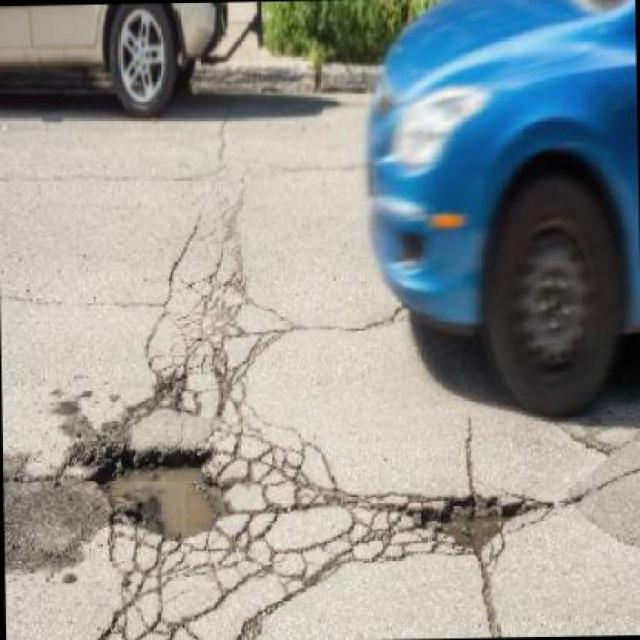pothole1: (91, 422, 232, 540), (411, 488, 517, 555)
